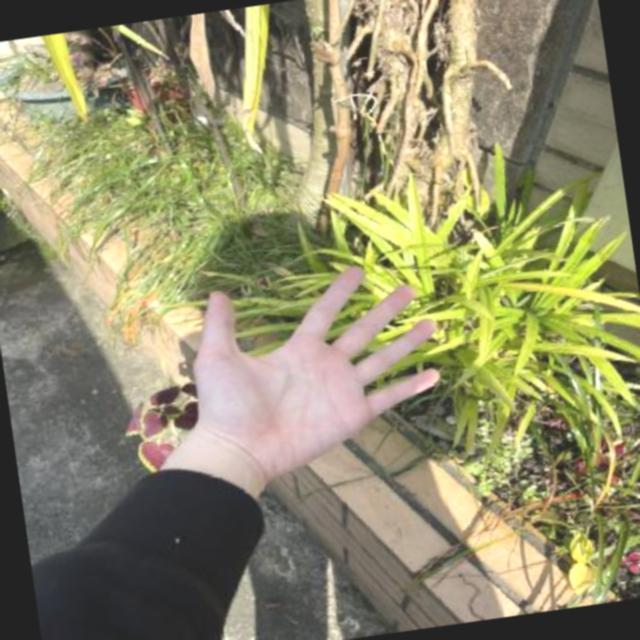hand: (160, 235, 478, 488)
